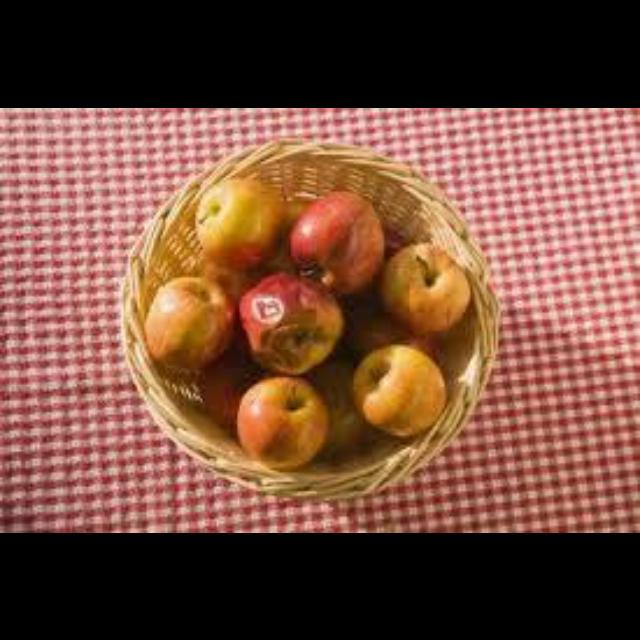apple: (240, 272, 342, 372), (289, 191, 382, 291), (351, 344, 445, 435), (237, 375, 328, 468), (144, 275, 233, 368), (379, 242, 468, 333), (195, 177, 282, 268)
rotten: (240, 272, 342, 372)
